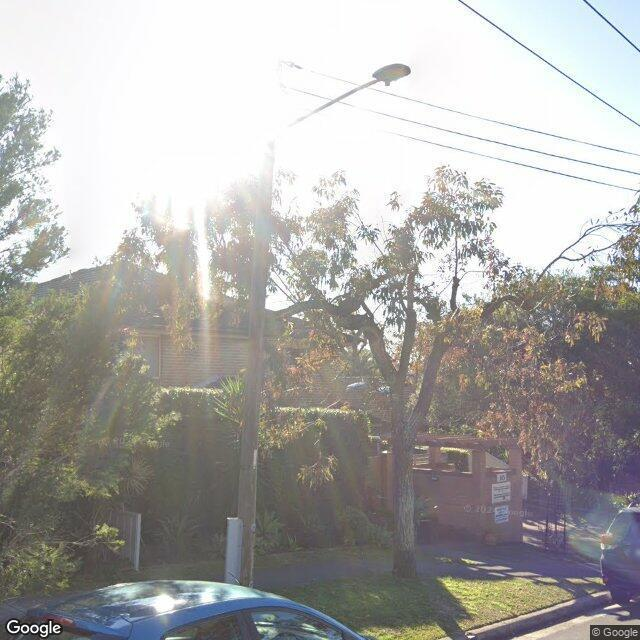streetlight: (274, 63, 412, 140)
timber-pole: (230, 153, 271, 587)
